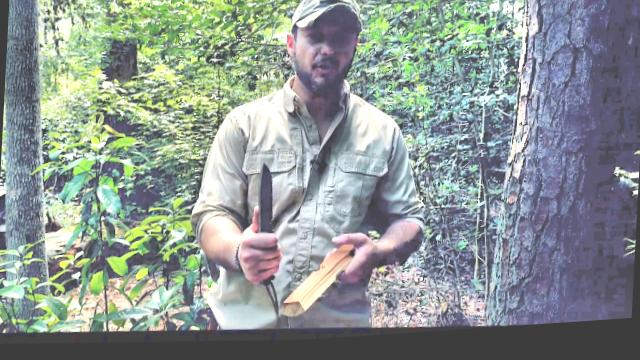knife: (242, 160, 288, 276)
